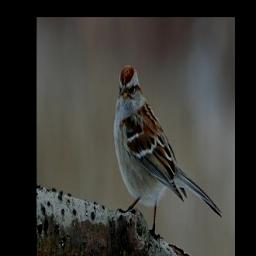Sparrow: (116, 62, 223, 240)
